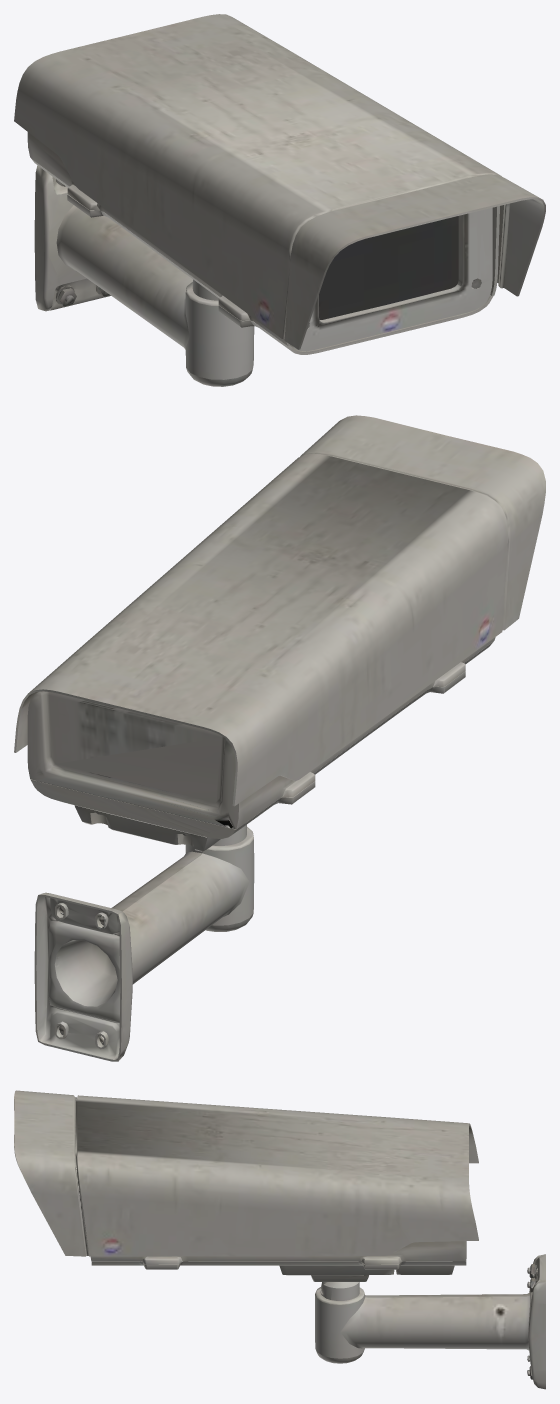
File: security-camera-02.glb
3 views of the same model, one above another, from view 1: azimuth 30°, elevation 25°; view 2: azimuth 150°, elevation 25°; view 3: azimuth 270°, elevation 25° (orthographic). The views are drawn at different scales.
Visible parts, largest first — view 1: security_camera_02; view 2: security_camera_02; view 3: security_camera_02.
Part boxes in pixels (x1,y1,x2,y2): security_camera_02: (14,14,545,386); security_camera_02: (14,415,545,1061); security_camera_02: (14,1090,545,1389).
Bounding box in the file's own units: 0.1406 × 0.2086 × 0.3938.
Materials: 2 (2 with a texture image).
